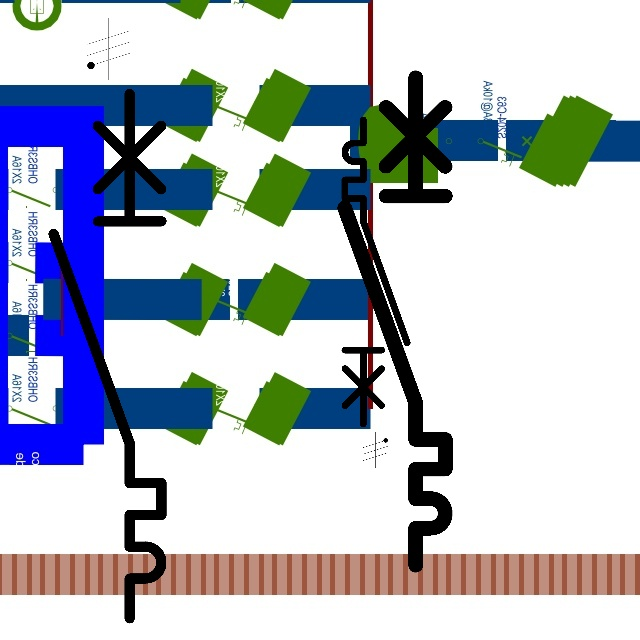interruptor_termomagnetico: (40, 80, 175, 631), (332, 65, 458, 578), (337, 112, 415, 432)
